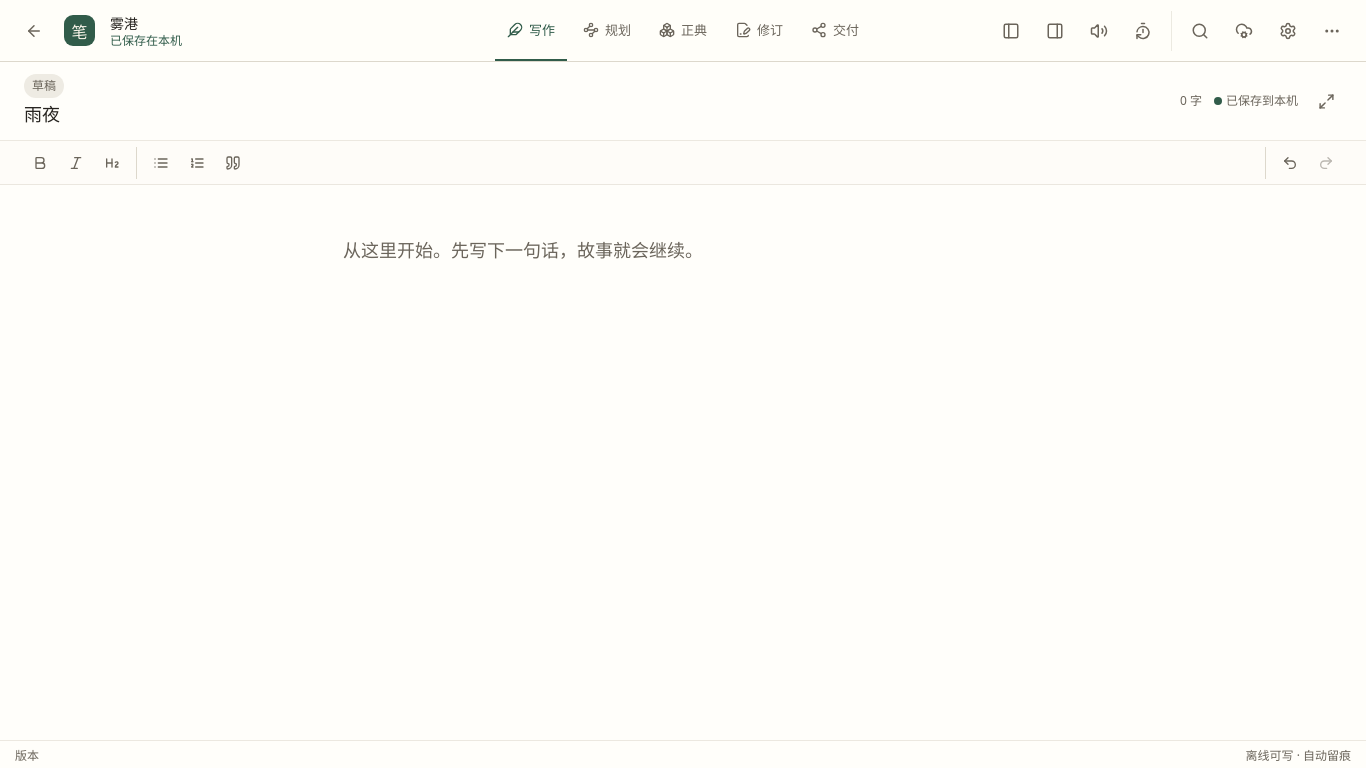
Workspace chrome › moves both side panes into accessible drawers on a single-column viewport
This screenshot has width=1366, height=768.
Expected: the element "书稿结构" is not shown
Click the button named "打开书稿树": click(1011, 30) 991,10 -> 1031,50
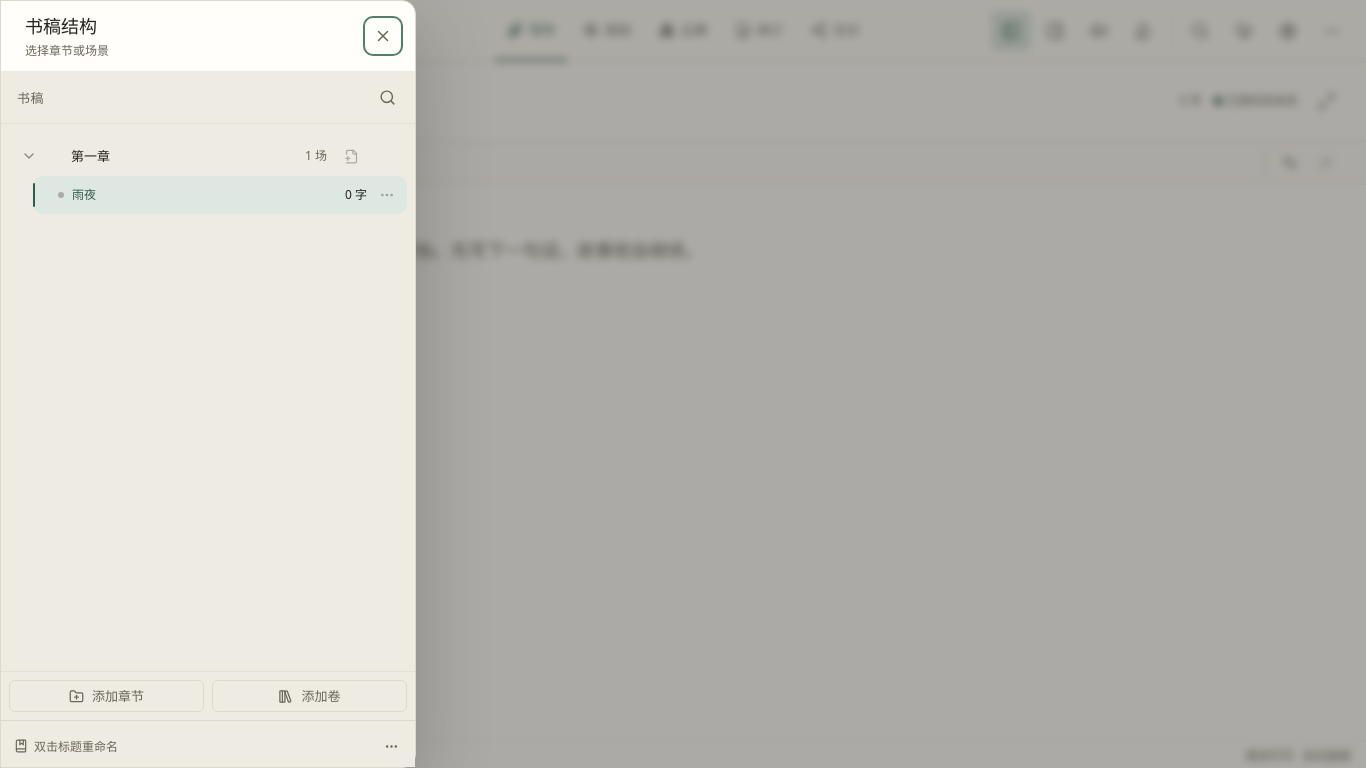
Result: the dialog "书稿结构" is shown at 0,0 -> 416,767
Press Escape
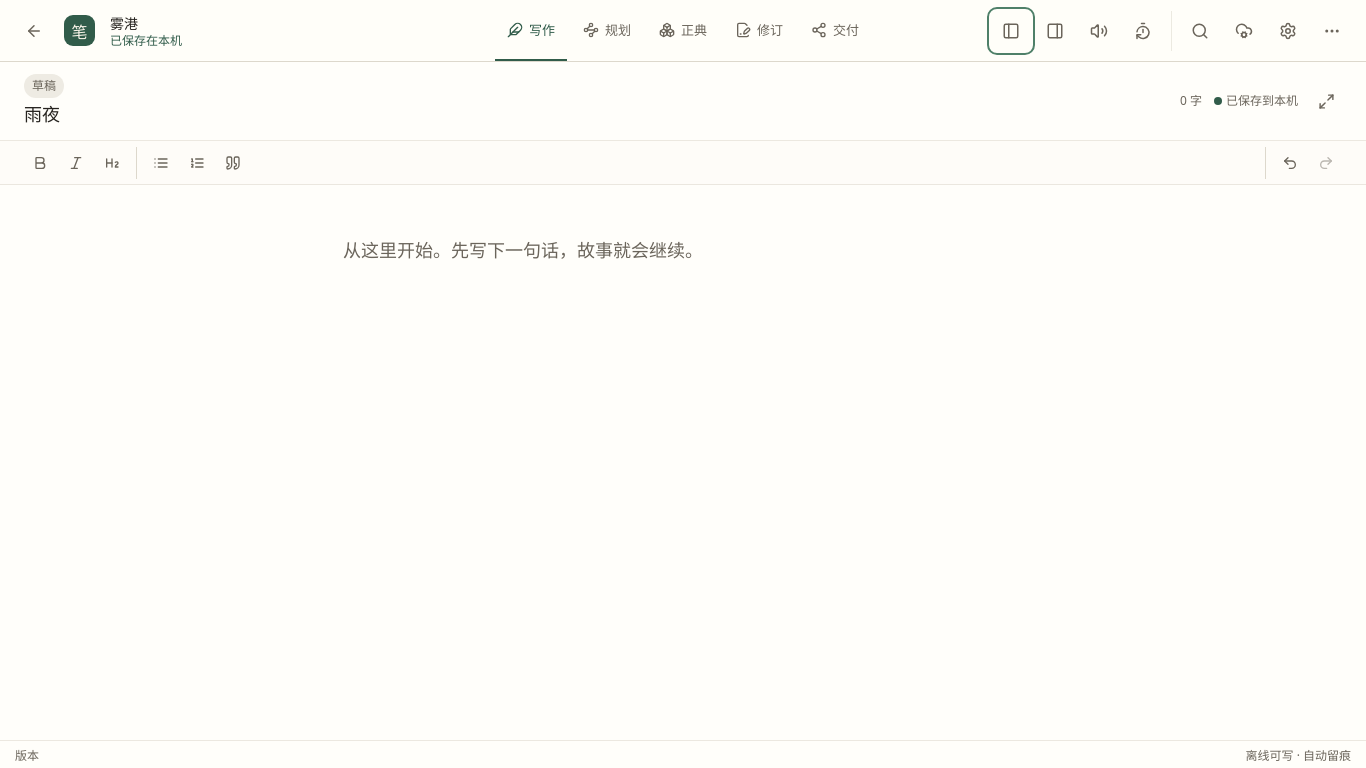
Click the button named "打开检查器": click(1055, 30) 1035,10 -> 1075,50
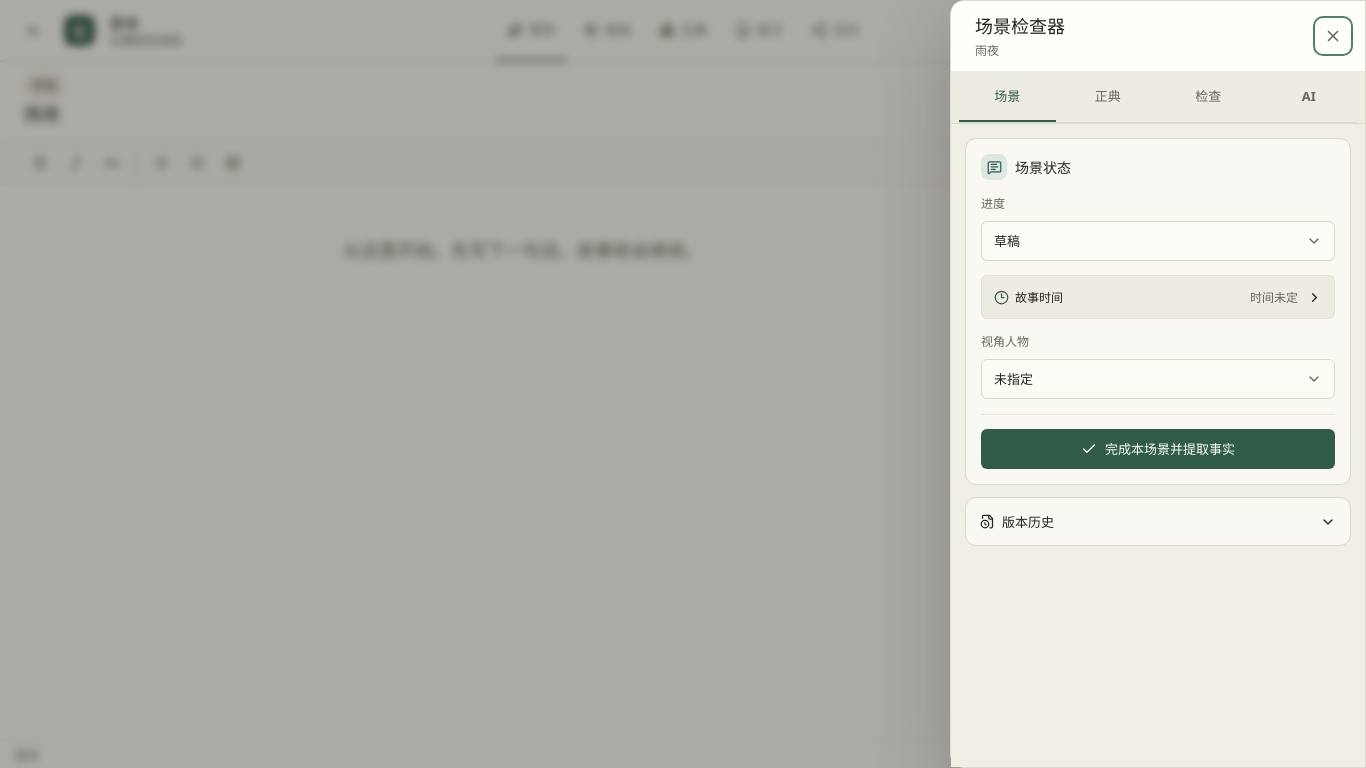
Result: the dialog "场景检查器" is shown at 950,0 -> 1365,767
